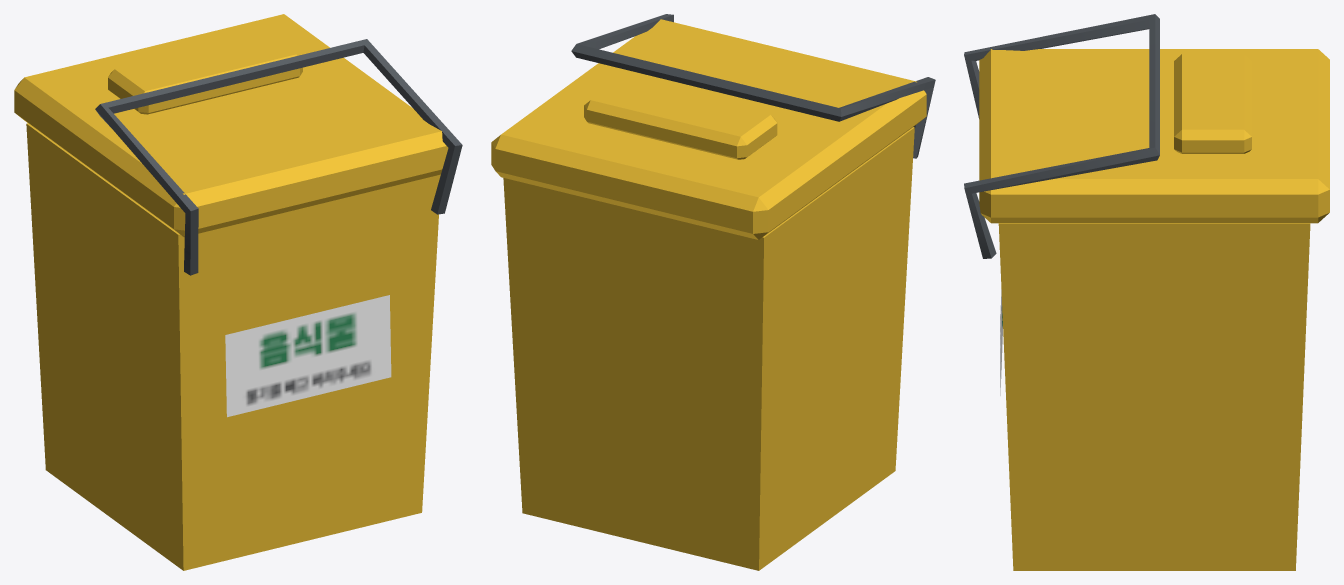
The model's file is SC_Util_FoodWaste_Bin.gltf.
3 views of the same model, side by side, from view 1: azimuth 30°, elevation 25°; view 2: azimuth 150°, elevation 25°; view 3: azimuth 270°, elevation 25° (orthographic). The views are drawn at different scales.
Parts seen in each view (by area): view 1: SC_Util_FoodWaste_Bin; view 2: SC_Util_FoodWaste_Bin; view 3: SC_Util_FoodWaste_Bin.
Boxes of the visible parts, x1,y1,x2,y2 form: SC_Util_FoodWaste_Bin: (14, 14, 462, 570); SC_Util_FoodWaste_Bin: (491, 14, 935, 570); SC_Util_FoodWaste_Bin: (964, 14, 1329, 570).
Size of the model in its own units: 0.34 by 0.4877 by 0.3756.
2 materials, 2 textured.
